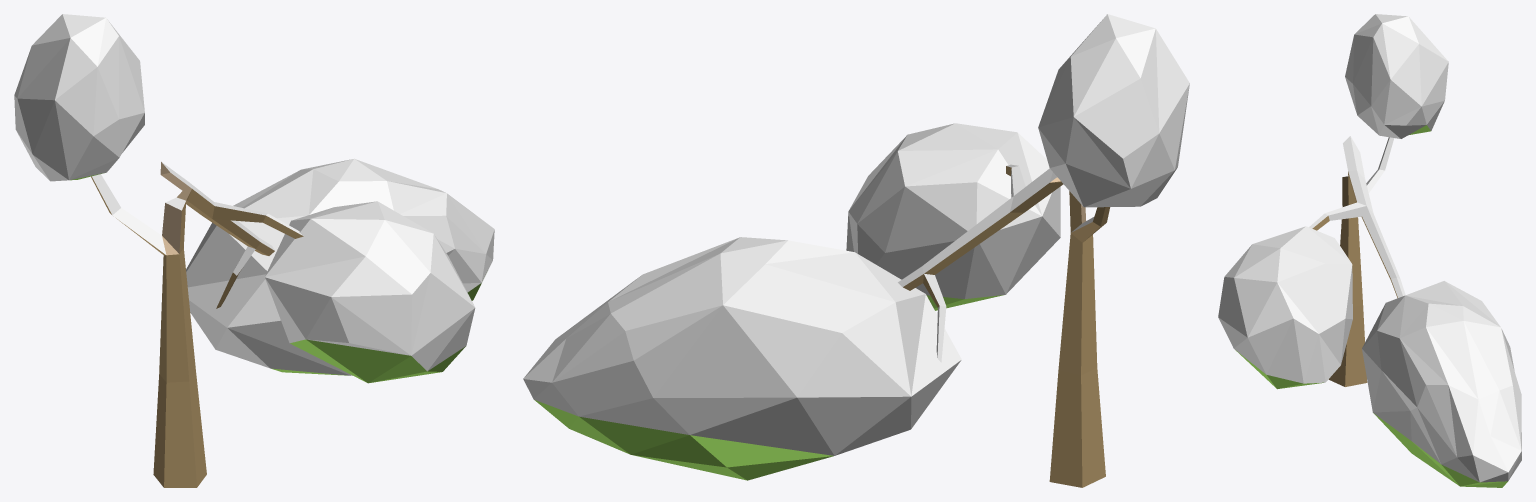
Rendered from Random_Tree_crk_m_Snow_04_LOD.fbx.
3 renders of one model, left to right at view 1: azimuth 30°, elevation 25°; view 2: azimuth 150°, elevation 25°; view 3: azimuth 270°, elevation 25°, orthographic. The views are drawn at different scales.
Visible parts, largest first — view 1: Random_Tree_crk_m_Snow_04_LOD0; view 2: Random_Tree_crk_m_Snow_04_LOD0; view 3: Random_Tree_crk_m_Snow_04_LOD0.
Boxes of the visible parts, x1,y1,x2,y2 form: Random_Tree_crk_m_Snow_04_LOD0: [14, 14, 494, 487]; Random_Tree_crk_m_Snow_04_LOD0: [523, 14, 1189, 487]; Random_Tree_crk_m_Snow_04_LOD0: [1218, 14, 1521, 487].
Size of what is drawn, in the model's own units: 650 by 541 by 443.
